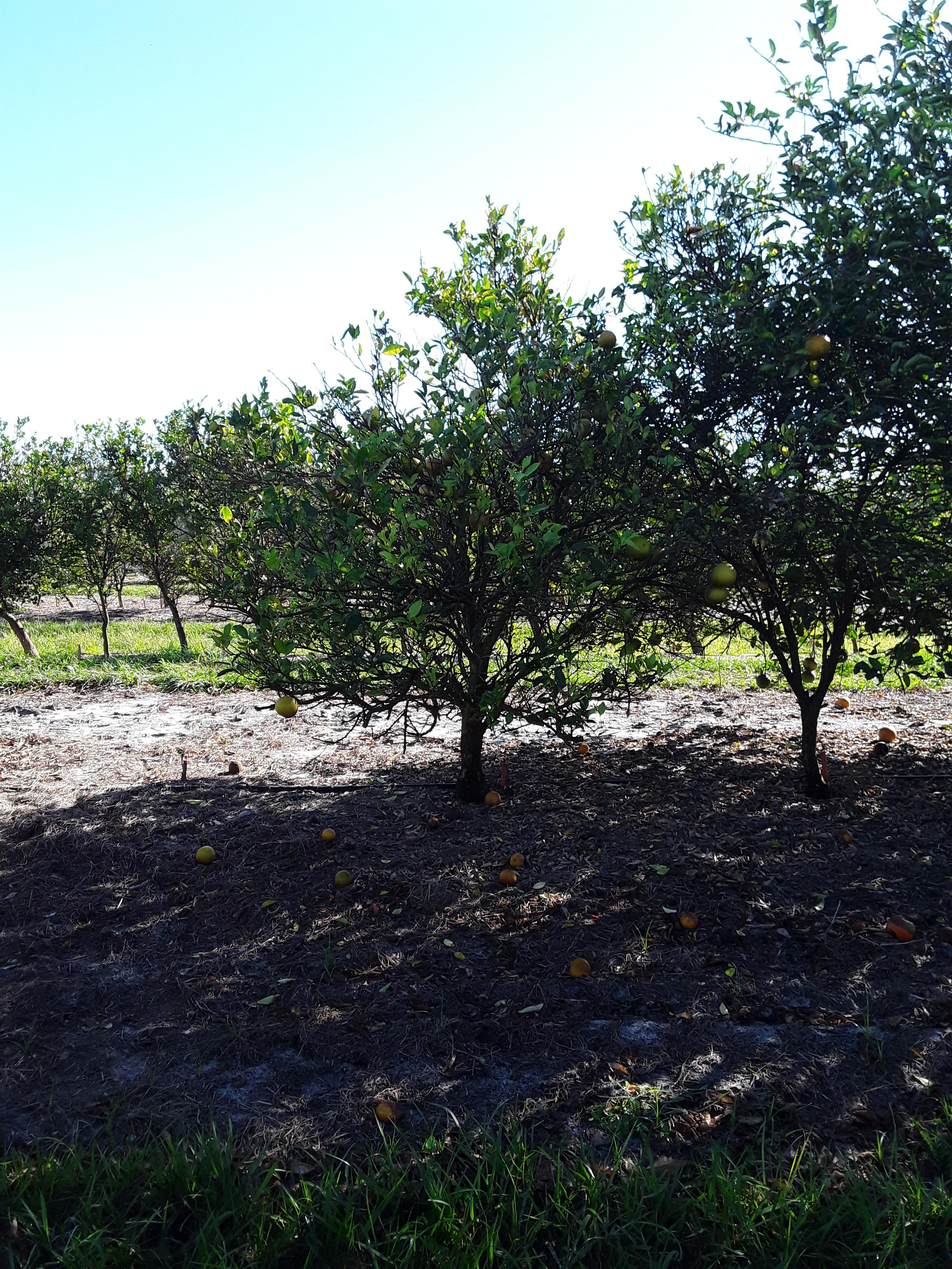fruit_on_ground: (439, 442, 471, 469), (709, 559, 734, 592), (422, 455, 452, 482), (622, 534, 652, 561), (806, 336, 831, 366), (399, 454, 430, 478), (275, 692, 299, 721), (596, 325, 618, 354), (466, 510, 493, 533), (704, 591, 727, 617), (535, 450, 557, 475), (334, 491, 360, 512), (649, 543, 671, 566), (572, 418, 597, 438), (784, 565, 809, 585), (417, 484, 442, 503), (316, 485, 340, 504), (903, 635, 924, 656), (664, 507, 686, 527), (494, 392, 517, 410), (362, 411, 385, 429), (762, 596, 782, 612), (753, 673, 773, 688), (569, 621, 586, 638), (648, 631, 667, 646), (803, 656, 819, 672), (627, 639, 646, 652), (691, 641, 708, 655), (800, 670, 817, 684), (756, 578, 771, 592)
fruit_on_tree: (374, 1096, 410, 1124), (886, 914, 911, 942), (194, 842, 218, 869), (568, 958, 590, 986), (677, 912, 703, 931), (872, 738, 894, 760), (333, 868, 353, 891), (497, 871, 517, 893), (836, 829, 856, 849), (319, 823, 337, 845), (878, 726, 898, 745), (575, 741, 598, 757), (226, 758, 244, 777), (513, 852, 530, 872), (485, 789, 500, 809), (835, 696, 849, 713), (427, 816, 440, 830)
